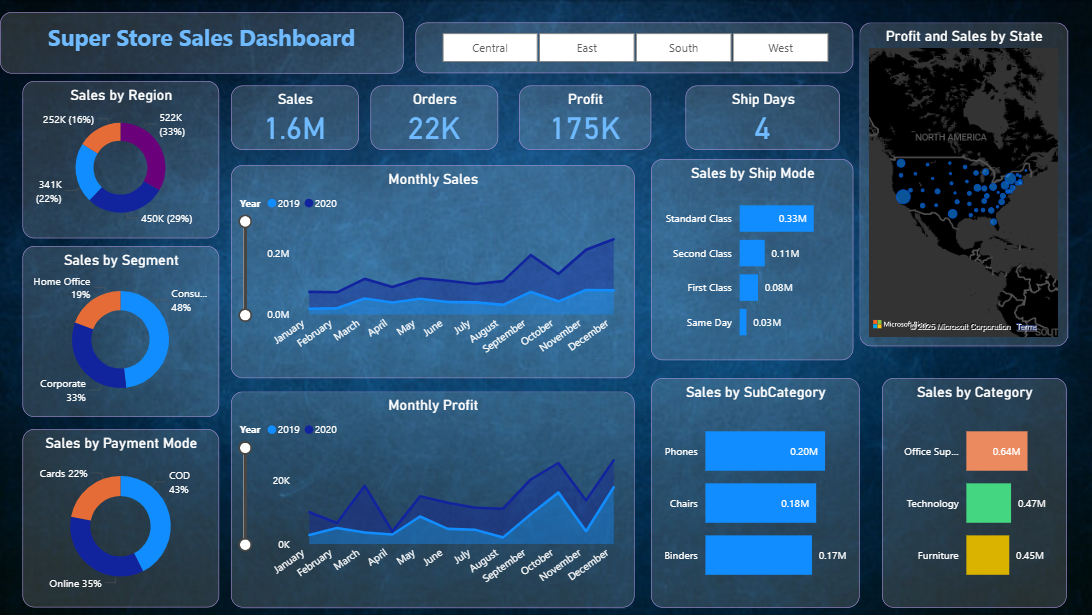

The page's visual inventory and layout, read from the dashboard file:
{"tool":"powerbi","page":{"name":"Page 1","canvas":[1280,720],"ordinal":0},"visuals":[{"type":"clusteredBarChart","title":"Sales by Category","fields":{"Category":["SuperStore Sales DataSet (3).Category"],"Y":["Sum(SuperStore Sales DataSet (3).Sales)"]},"box":[1031.6,442.1,215.8,268.4],"z":0},{"type":"clusteredBarChart","title":"Sales by SubCategory","fields":{"Category":["SuperStore Sales DataSet (3).Sub-Category"],"Y":["Sum(SuperStore Sales DataSet (3).Sales)"]},"box":[761.4,442.1,243.9,268.4],"z":1000},{"type":"clusteredBarChart","title":"Sales by Ship Mode","fields":{"Category":["SuperStore Sales DataSet (3).Ship Mode"],"Y":["Sum(SuperStore Sales DataSet (3).Sales)"]},"box":[761.4,186,236.8,235.1],"z":2000},{"type":"stackedAreaChart","title":"Monthly Sales ","fields":{"Y":["Sum(SuperStore Sales DataSet (3).Sales)"],"Category":["SuperStore Sales DataSet (3).Order Date.Variation.Date Hierarchy.Month","SuperStore Sales DataSet (3).Order Date.Variation.Date Hierarchy.Day"],"Series":["SuperStore Sales DataSet (3).Order Date.Variation.Date Hierarchy.Year"]},"box":[270.2,193,471.9,249.1],"z":3000},{"type":"stackedAreaChart","title":"Monthly Profit ","fields":{"Category":["SuperStore Sales DataSet (3).Order Date.Variation.Date Hierarchy.Month","SuperStore Sales DataSet (3).Order Date.Variation.Date Hierarchy.Day"],"Series":["SuperStore Sales DataSet (3).Order Date.Variation.Date Hierarchy.Year"],"Y":["Sum(SuperStore Sales DataSet (3).Profit)"]},"box":[270.2,457.9,471.9,252.6],"z":4000},{"type":"map","title":" Profit and Sales by State","fields":{"Category":["SuperStore Sales DataSet (3).State"],"Size":["Sum(SuperStore Sales DataSet (3).Sales)"]},"box":[1005.3,26.3,243.9,378.9],"z":5000},{"type":"donutChart","title":"Sales by Segment","fields":{"Category":["SuperStore Sales DataSet (3).Segment"],"Y":["Sum(SuperStore Sales DataSet (3).Sales)"]},"box":[26.3,287.7,229.8,200],"z":6000},{"type":"donutChart","title":"Sales by Payment Mode","fields":{"Category":["SuperStore Sales DataSet (3).Payment Mode","SuperStore Sales DataSet (3).Segment"],"Y":["Sum(SuperStore Sales DataSet (3).Sales)"]},"box":[26.3,501.8,229.8,208.8],"z":7000},{"type":"slicer","fields":{"Values":["SuperStore Sales DataSet (3).Region"]},"box":[486,26.3,512.3,59.6],"z":8000},{"type":"textbox","box":[0,14,471.9,71.9],"z":9000},{"type":"card","title":"Sales","fields":{"Values":["Sum(SuperStore Sales DataSet (3).Sales)"]},"box":[270.2,100,149.1,75.4],"z":10000},{"type":"card","title":"Orders","fields":{"Values":["Sum(SuperStore Sales DataSet (3).Quantity)"]},"box":[433.3,100,149.1,75.4],"z":11000},{"type":"card","title":"Profit","fields":{"Values":["Sum(SuperStore Sales DataSet (3).Profit)"]},"box":[607,100,154.4,75.4],"z":12000},{"type":"card","title":"Ship Days","fields":{"Values":["Avg(SuperStore Sales DataSet (3).AvgDelivery)"]},"box":[801.8,100,180.7,75.4],"z":13000},{"type":"donutChart","title":"Sales by Region","fields":{"Category":["SuperStore Sales DataSet (3).Region"],"Y":["Sum(SuperStore Sales DataSet (3).Sales)"]},"box":[26.3,94.7,229.8,184.2],"z":13001}]}

Visuals, with their boxes in screenshot pixels (x1, y1, x2, y2), scaled from the page's 1280x720 canvas onto the 1092x615 screenshot:
"Sales by Category" clusteredBarChart: left=880, top=378, right=1064, bottom=607
"Sales by SubCategory" clusteredBarChart: left=650, top=378, right=858, bottom=607
"Sales by Ship Mode" clusteredBarChart: left=650, top=159, right=852, bottom=360
"Monthly Sales " stackedAreaChart: left=231, top=165, right=633, bottom=378
"Monthly Profit " stackedAreaChart: left=231, top=391, right=633, bottom=607
" Profit and Sales by State" map: left=858, top=22, right=1066, bottom=346
"Sales by Segment" donutChart: left=22, top=246, right=218, bottom=417
"Sales by Payment Mode" donutChart: left=22, top=429, right=218, bottom=607
slicer - SuperStore Sales DataSet (3).Region: left=415, top=22, right=852, bottom=73
textbox: left=0, top=12, right=403, bottom=73
"Sales" card: left=231, top=85, right=358, bottom=150
"Orders" card: left=370, top=85, right=497, bottom=150
"Profit" card: left=518, top=85, right=650, bottom=150
"Ship Days" card: left=684, top=85, right=838, bottom=150
"Sales by Region" donutChart: left=22, top=81, right=218, bottom=238
